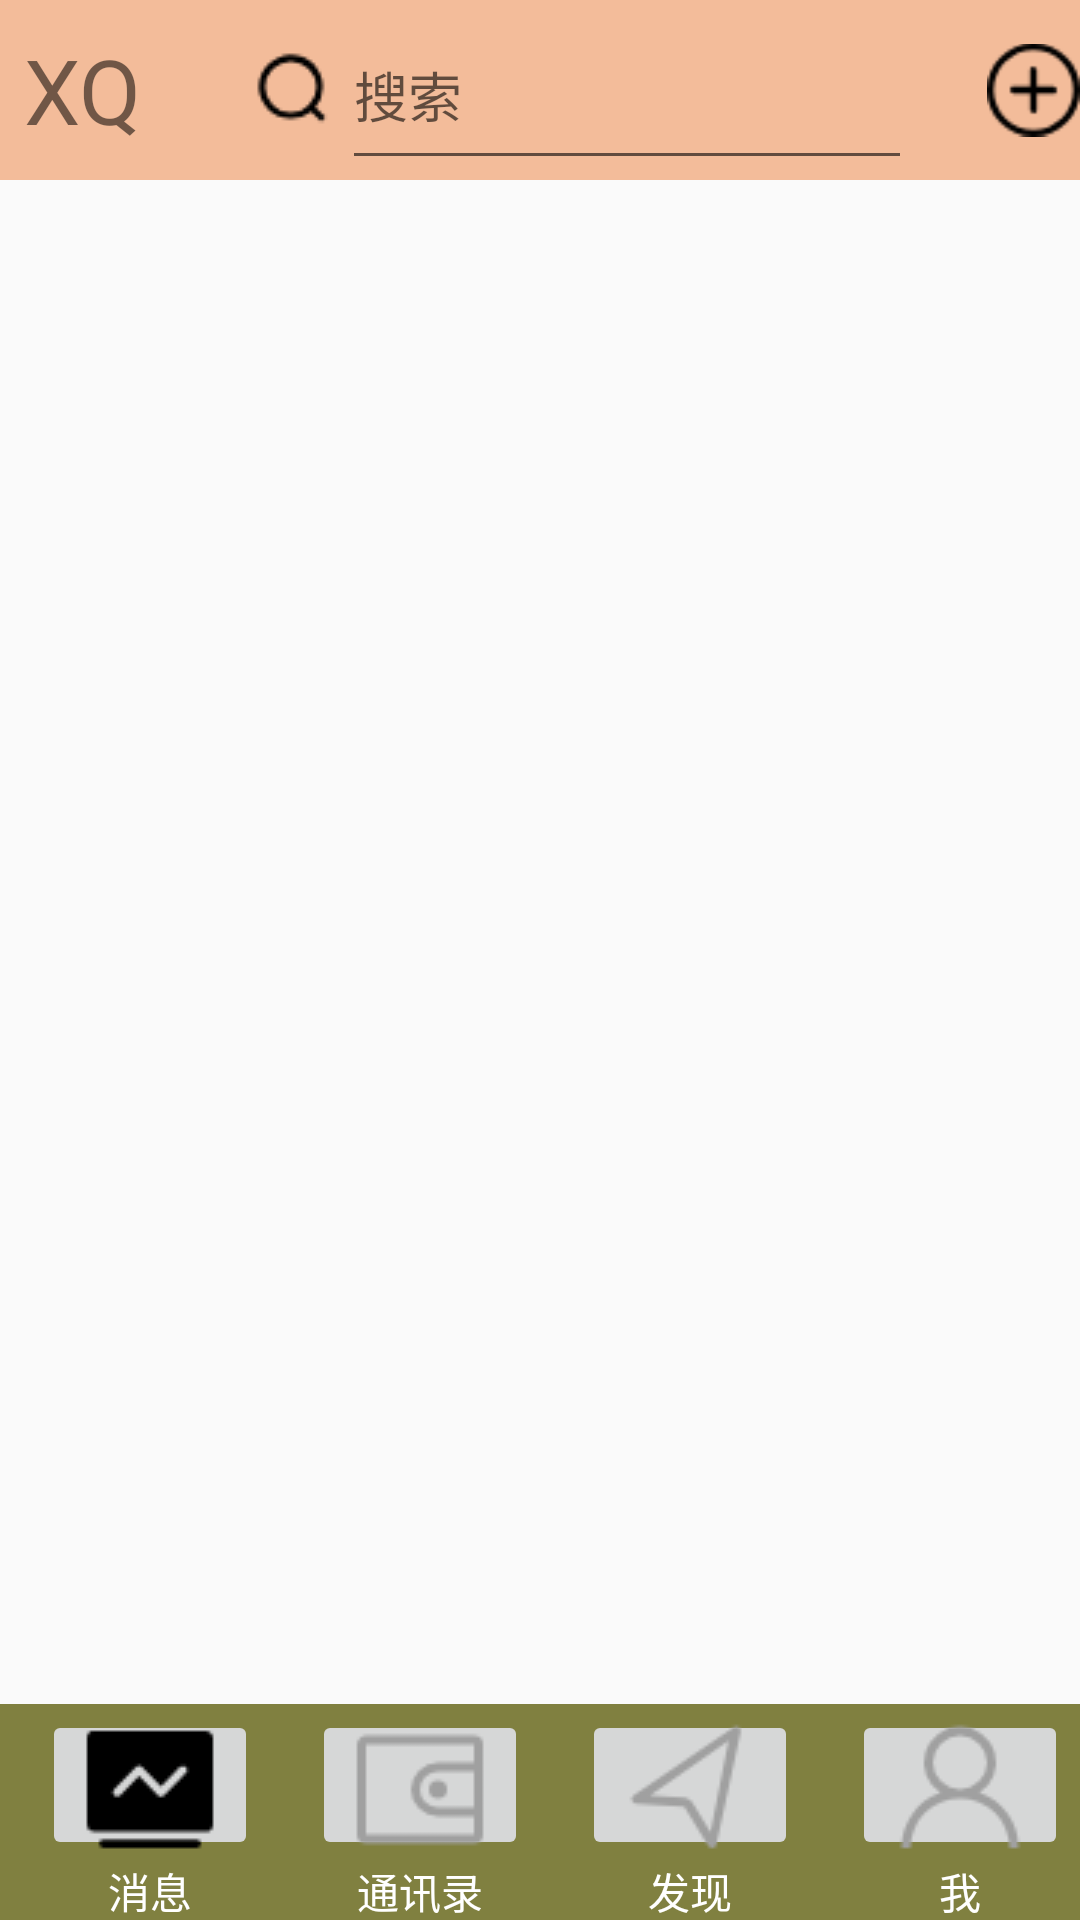

Named icons in this screenshot (1080px×1920px) and their bounding boxes, (x1, y1, x2, y2):
menujh: (987, 44, 1080, 137)
menuss: (257, 53, 325, 122)
